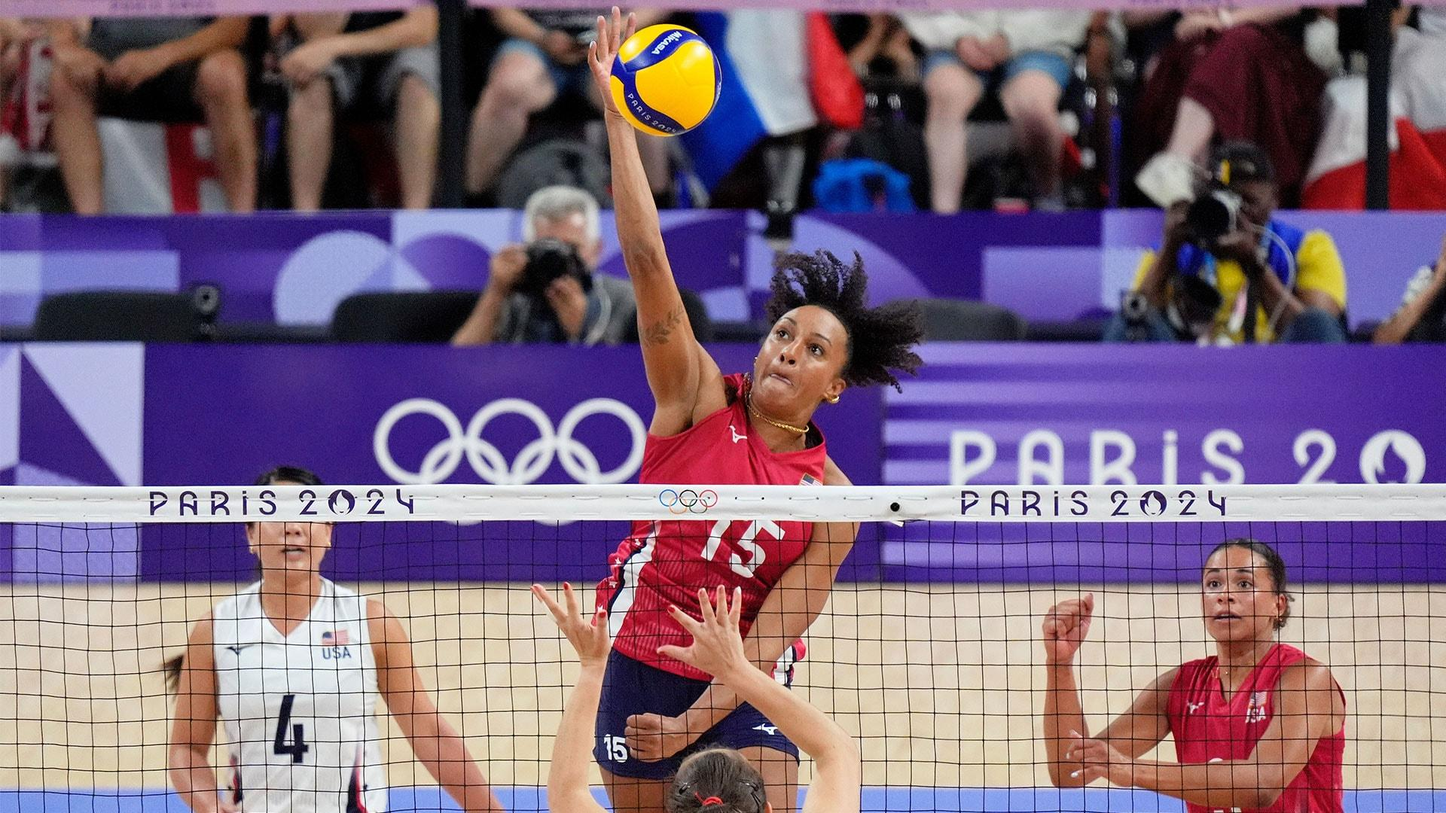ballon_volley: (610, 22, 723, 138)
